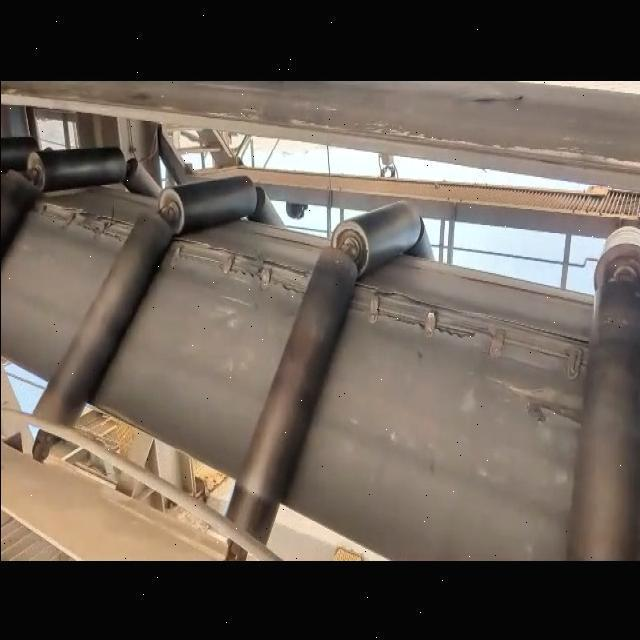Tear: (348, 270, 592, 376), (166, 218, 316, 298), (26, 194, 140, 244)
Wear: (488, 374, 588, 429)
